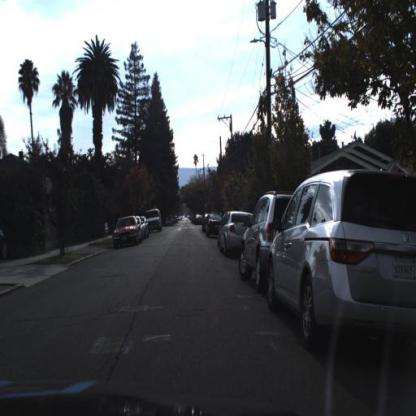car: (267, 162, 416, 358), (235, 179, 304, 293), (239, 191, 291, 283), (217, 206, 264, 261), (219, 211, 255, 257), (110, 217, 142, 248), (144, 207, 165, 235), (146, 209, 162, 233), (133, 216, 145, 243), (207, 216, 221, 239), (142, 217, 150, 240)
